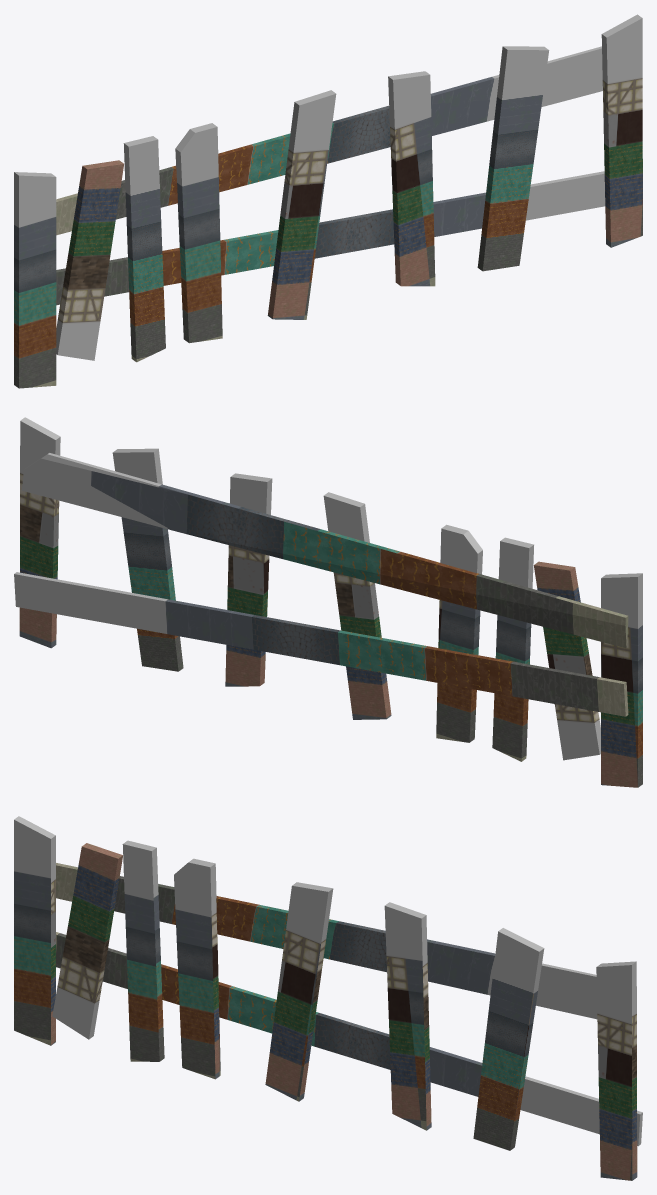
Rendered from SM_Barriere_003.fbx.
3 views of the same model, one above another, from view 1: azimuth 30°, elevation 25°; view 2: azimuth 150°, elevation 25°; view 3: azimuth 330°, elevation 25° (orthographic).
Visible parts, largest first — view 1: polySurface25; view 2: polySurface25; view 3: polySurface25.
Part boxes in pixels (box(x1,y1,x2,y2)): polySurface25: box(14, 14, 642, 388); polySurface25: box(14, 417, 642, 787); polySurface25: box(14, 816, 642, 1180).
Bounding box in the file's own units: 411 × 141 × 9.
